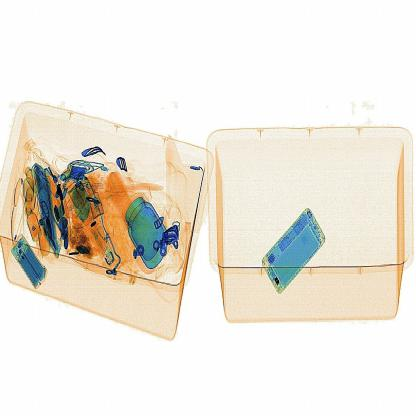knife: (158, 221, 187, 250)
